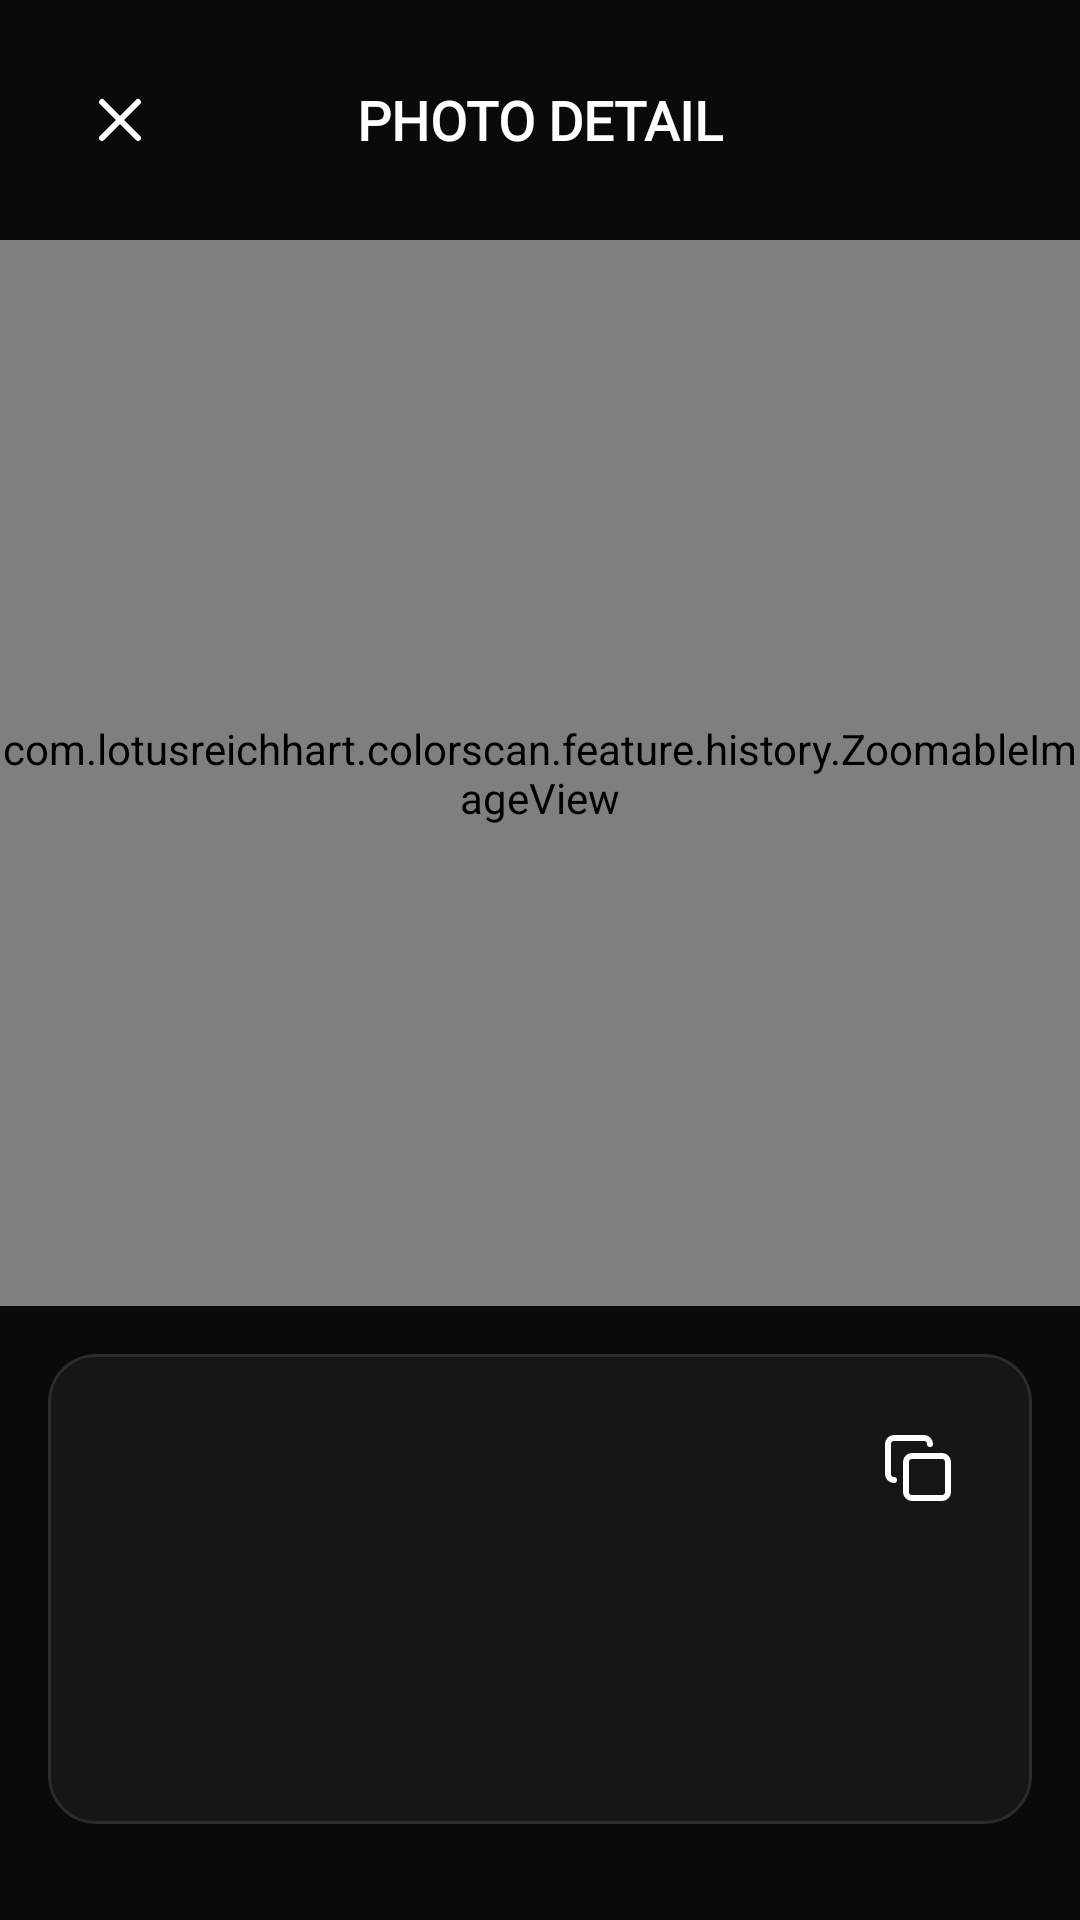

Locate icon controls on the screen. Image size 1080w x 1920h, boxes as (x1, y1, x2, y2).
Close screen: (99, 98, 141, 141)
Copy color: (885, 1435, 951, 1501)
